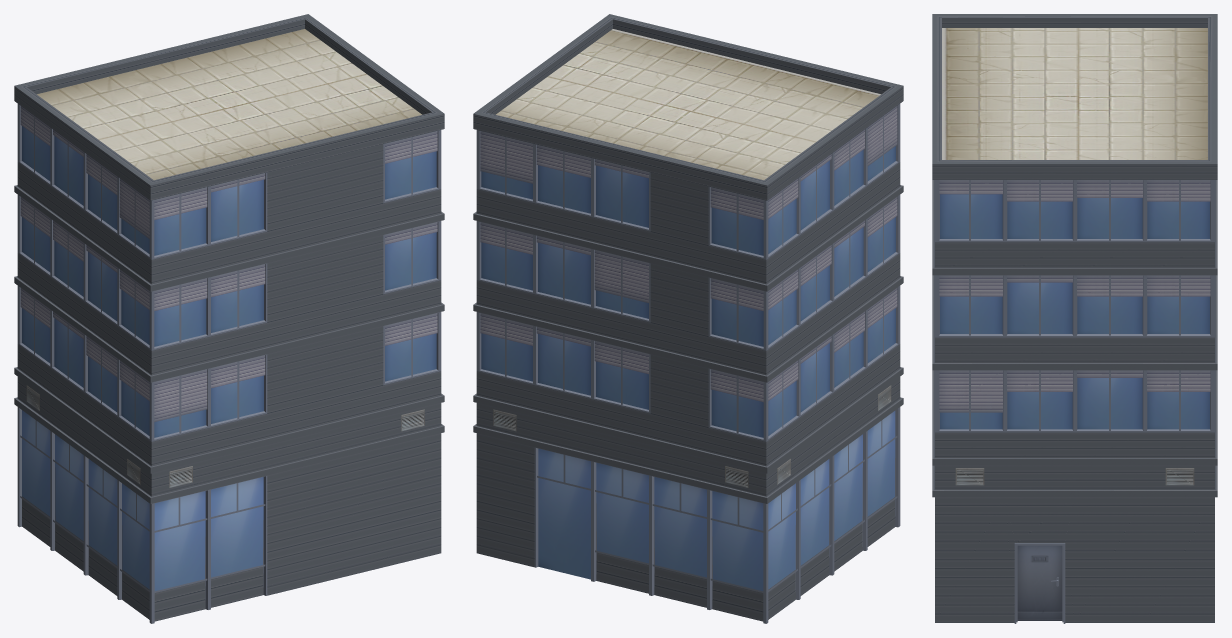
Rendered from Building_Office_1_LOD1.fbx.
3 views of the same model, side by side, from view 1: azimuth 30°, elevation 25°; view 2: azimuth 150°, elevation 25°; view 3: azimuth 270°, elevation 25° (orthographic). The views are drawn at different scales.
Parts seen in each view (by area): view 1: polySurface264; view 2: polySurface264; view 3: polySurface264.
Boxes of the visible parts, left/top/right/bottom form: polySurface264: left=14, top=14, right=444, bottom=623; polySurface264: left=473, top=14, right=903, bottom=623; polySurface264: left=932, top=14, right=1217, bottom=623.
Size of the model in its own units: 1015 by 1450 by 815.
